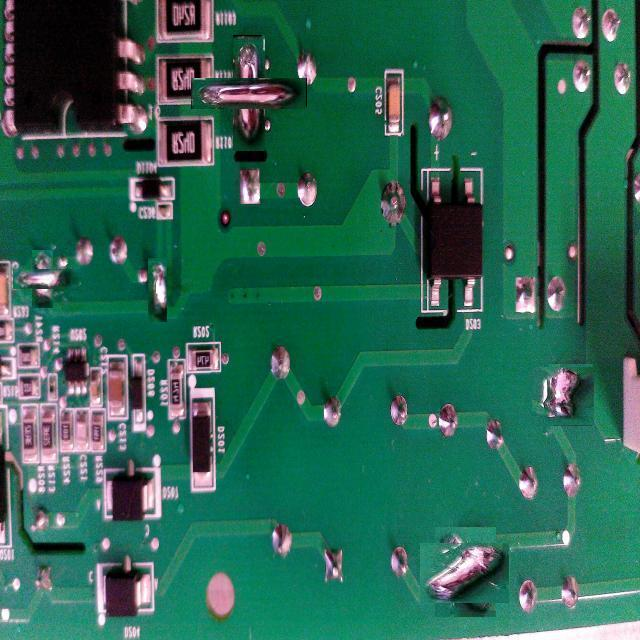Short_circuit: (428, 535, 503, 610), (212, 56, 286, 130), (533, 365, 594, 426), (23, 259, 62, 299), (148, 257, 168, 322)
